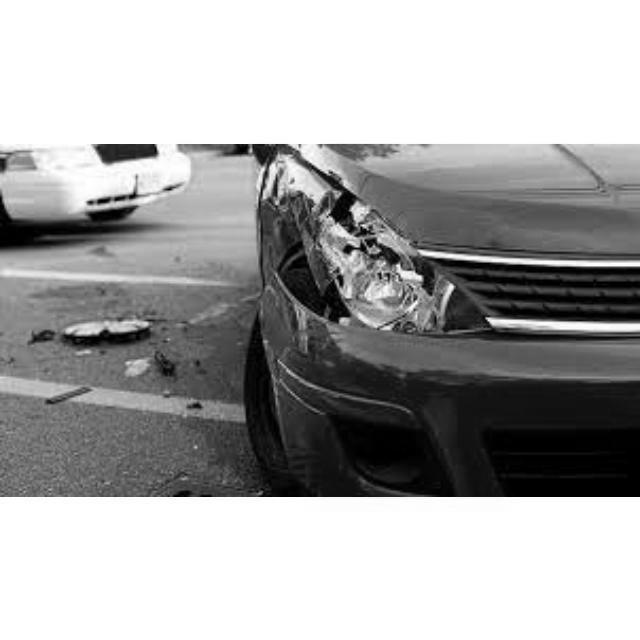Headlight-damage: (299, 202, 440, 326)
fender-dent: (271, 156, 321, 265)
